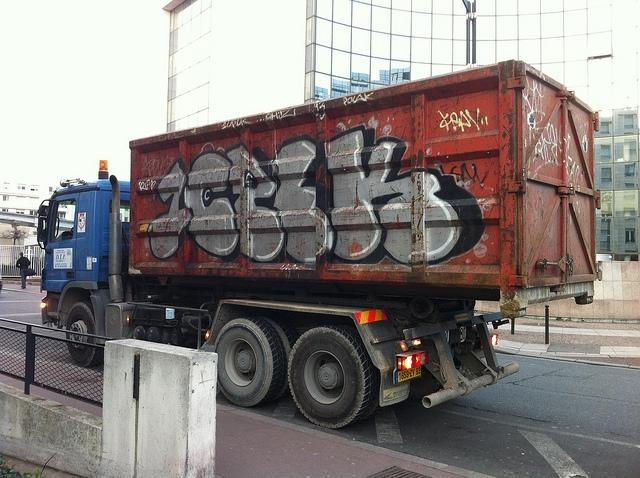truck: (32, 60, 604, 432)
